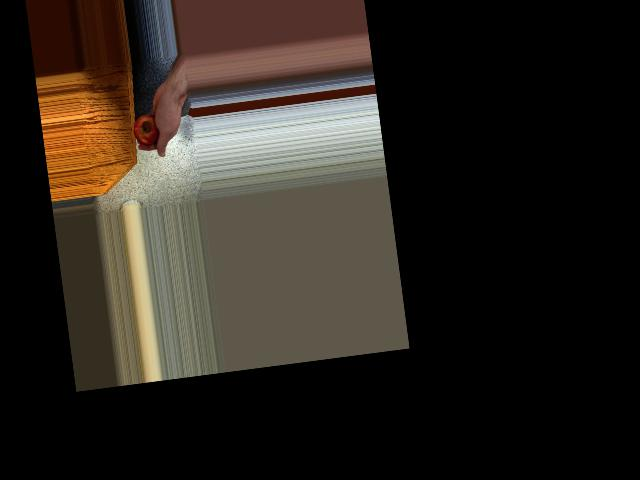apple: (129, 105, 165, 148)
